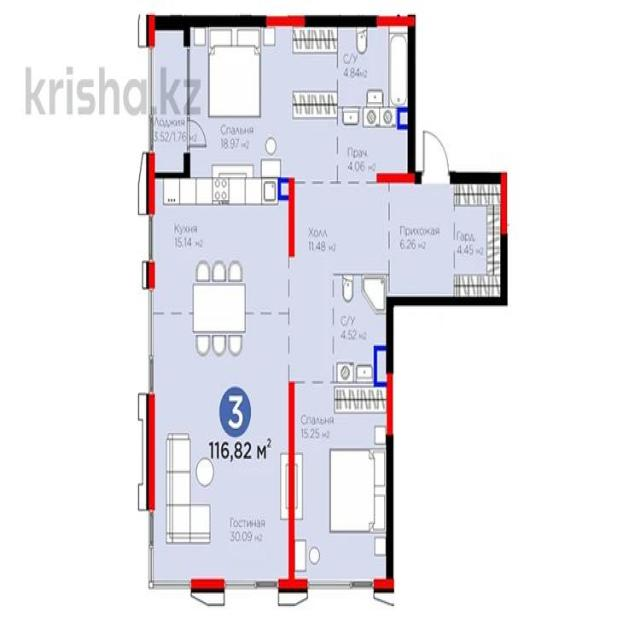balcony: (150, 20, 189, 176)
bathroom: (337, 20, 412, 106), (334, 274, 389, 379), (338, 104, 410, 180)
hallway: (290, 181, 389, 383), (388, 180, 455, 301)
kitchen: (151, 183, 292, 309)
living_room: (152, 312, 291, 580), (189, 22, 338, 176), (291, 379, 392, 587)
other: (455, 178, 505, 300)
